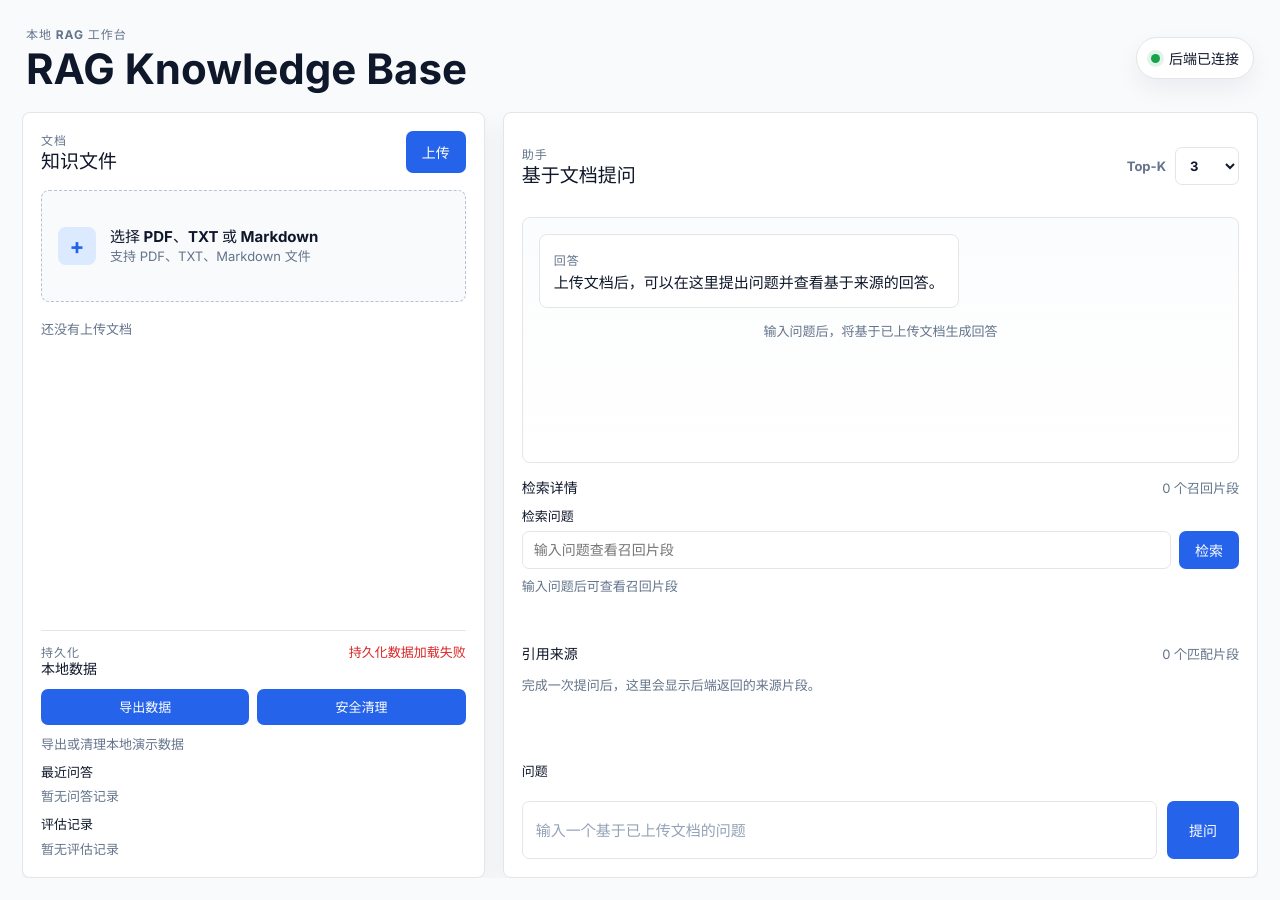
Test: App chat workflow › streams a chat answer and renders sources when the stream completes
Type "streaming demo" into the field labelled "问题" at (839, 830), box [522, 802, 1157, 859]
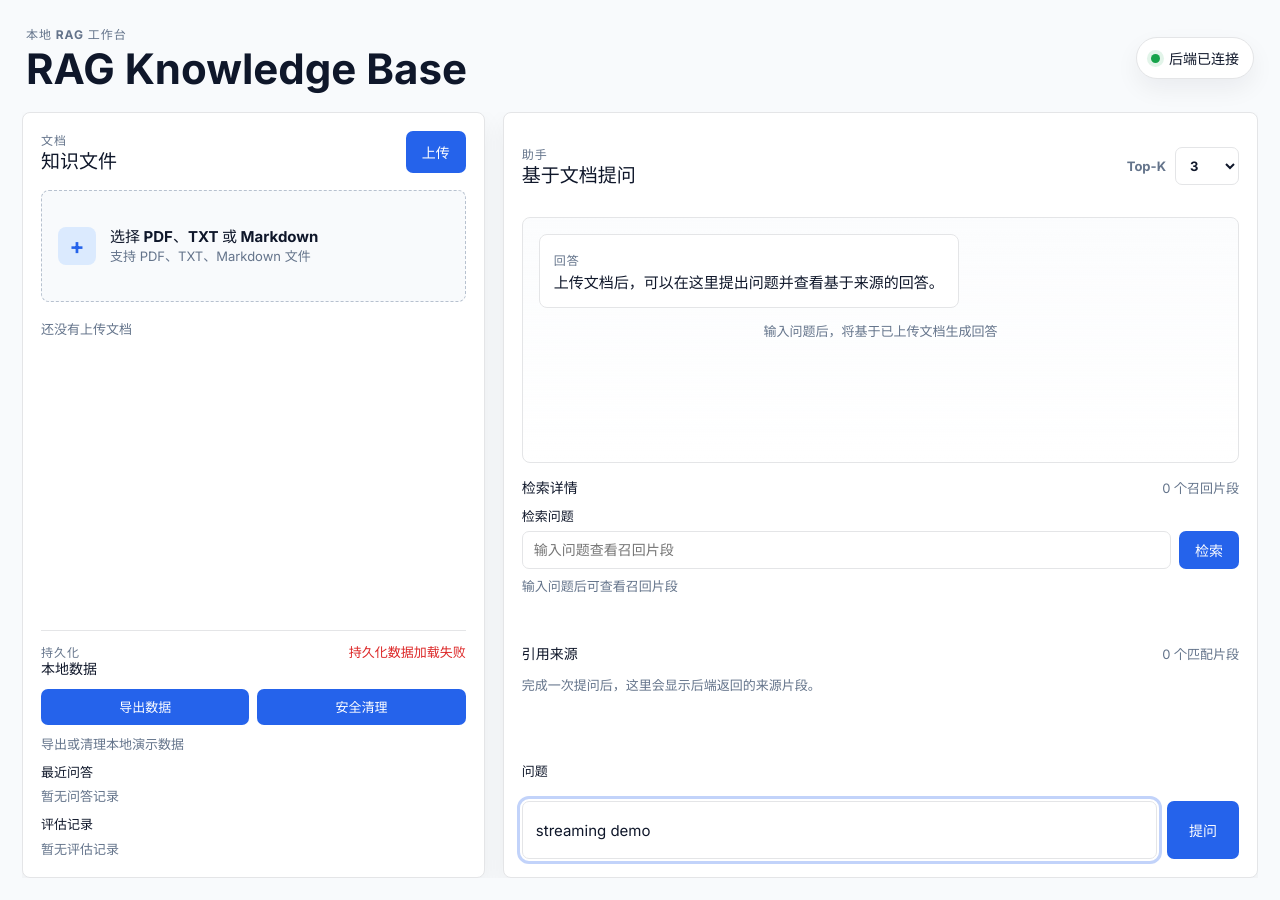
Click the submit button at (1203, 830), box [1167, 802, 1239, 859]
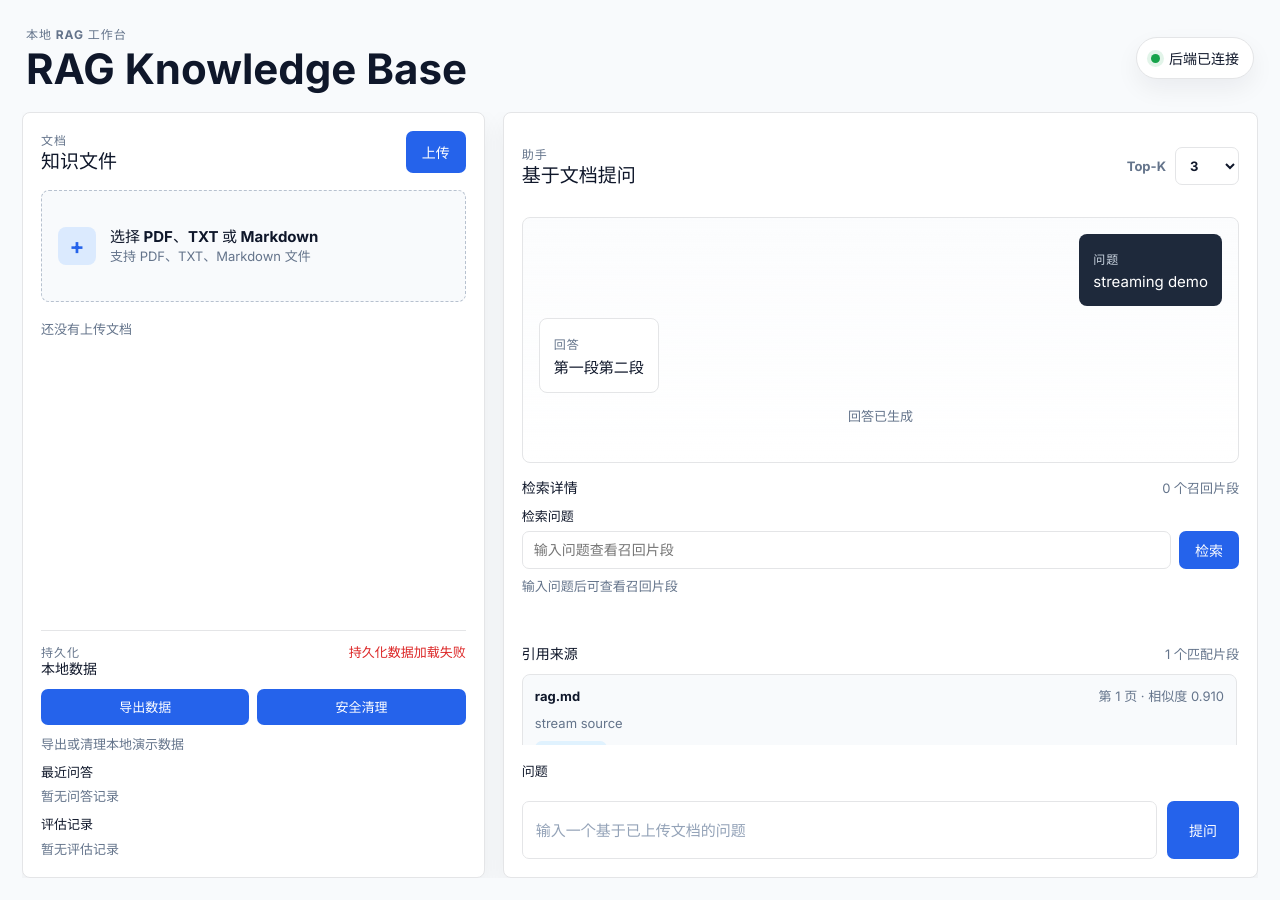
expect the text "第一段第二段" is shown: met, box [554, 356, 644, 379]
expect the text "rag.md" is shown: met, box [535, 688, 580, 704]
expect the text "stream source" is shown: met, box [535, 715, 623, 731]
